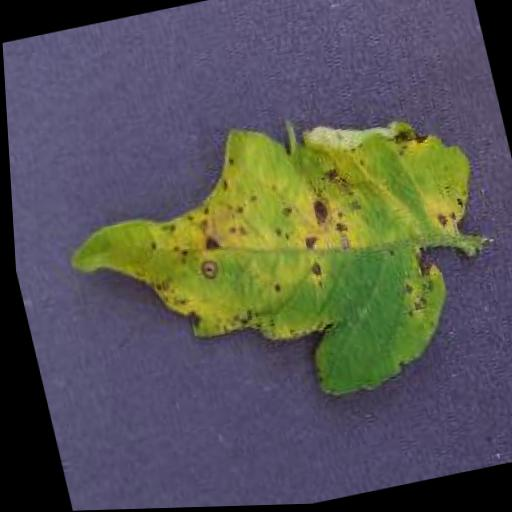Septoria: (39, 83, 512, 447)
